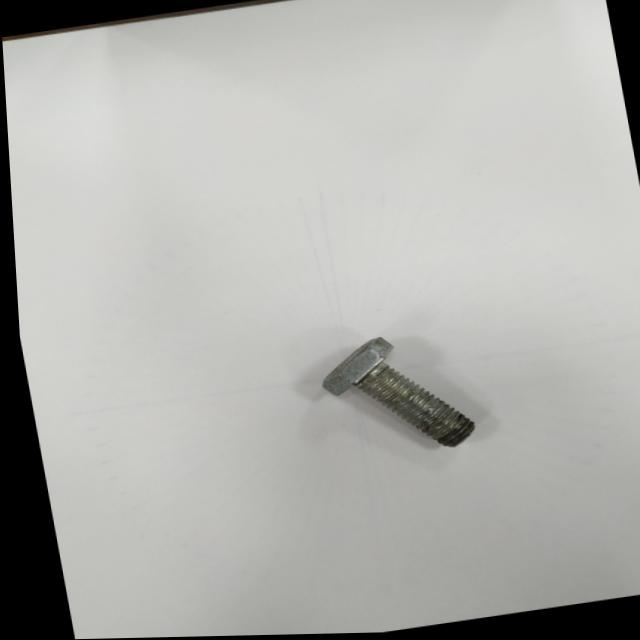Bolt: (317, 339, 469, 448)
